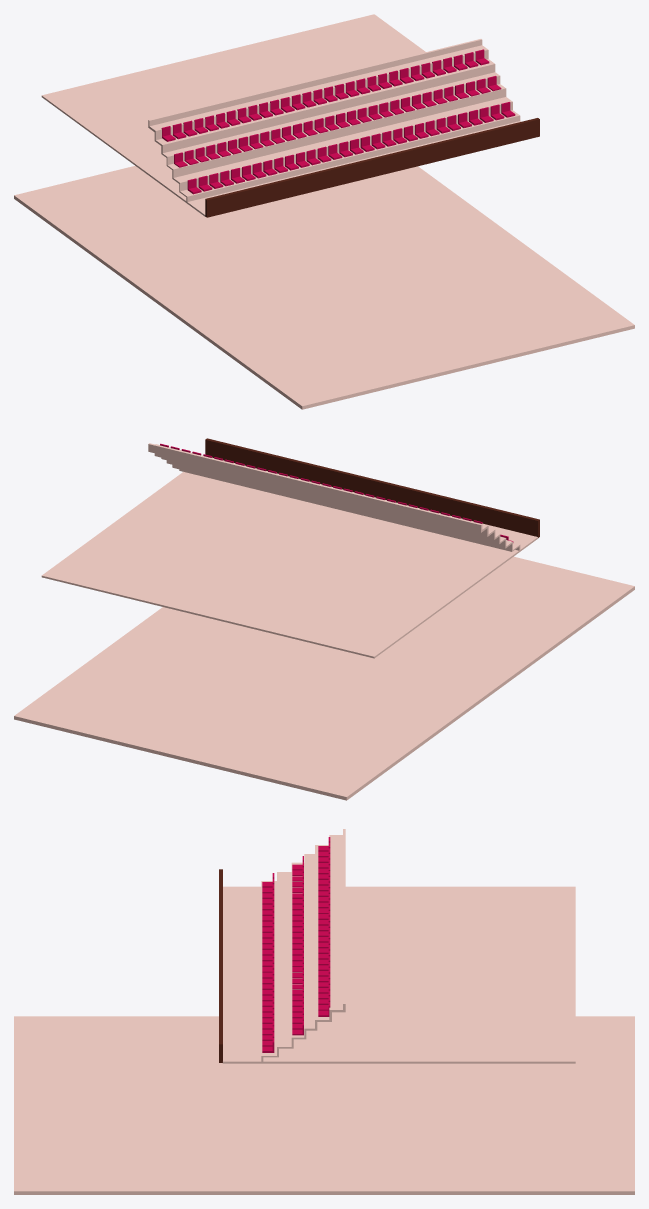
The model's file is ICC_inside.glb.
The picture shows the model from 3 angles, top to bottom: view 1: azimuth 30°, elevation 25°; view 2: azimuth 150°, elevation 25°; view 3: azimuth 270°, elevation 25°; orthographic projection. The views are drawn at different scales.
Visible parts, largest first — view 1: FloorBase-col, FloorTop-col, SeatBase-col, Railing-col, Chairs, Chairs.002, Chairs.001; view 2: FloorBase-col, FloorTop-col, SeatBase-col, Railing-col, Chairs.002; view 3: FloorBase-col, FloorTop-col, SeatBase-col, Chairs, Chairs.002, Chairs.001, Railing-col.
Boxes of the visible parts, left/top/right/bottom form: FloorBase-col: left=14, top=166, right=634, bottom=409; FloorTop-col: left=41, top=14, right=520, bottom=216; SeatBase-col: left=148, top=39, right=520, bottom=201; Railing-col: left=205, top=118, right=539, bottom=217; Chairs: left=187, top=102, right=515, bottom=194; Chairs.002: left=161, top=49, right=489, bottom=141; Chairs.001: left=174, top=76, right=501, bottom=167; FloorBase-col: left=14, top=556, right=634, bottom=800; FloorTop-col: left=41, top=457, right=537, bottom=658; SeatBase-col: left=148, top=443, right=520, bottom=551; Railing-col: left=205, top=438, right=539, bottom=537; Chairs.002: left=160, top=443, right=482, bottom=523; FloorBase-col: left=14, top=1016, right=634, bottom=1194; FloorTop-col: left=222, top=886, right=575, bottom=1063; SeatBase-col: left=261, top=829, right=345, bottom=1062; Chairs: left=262, top=873, right=274, bottom=1052; Chairs.002: left=318, top=837, right=330, bottom=1016; Chairs.001: left=292, top=856, right=303, bottom=1035; Railing-col: left=219, top=869, right=222, bottom=1062.
Size of the model in its own units: 20 by 10.17 by 30.
Materials: 1 (1 with a texture image).
